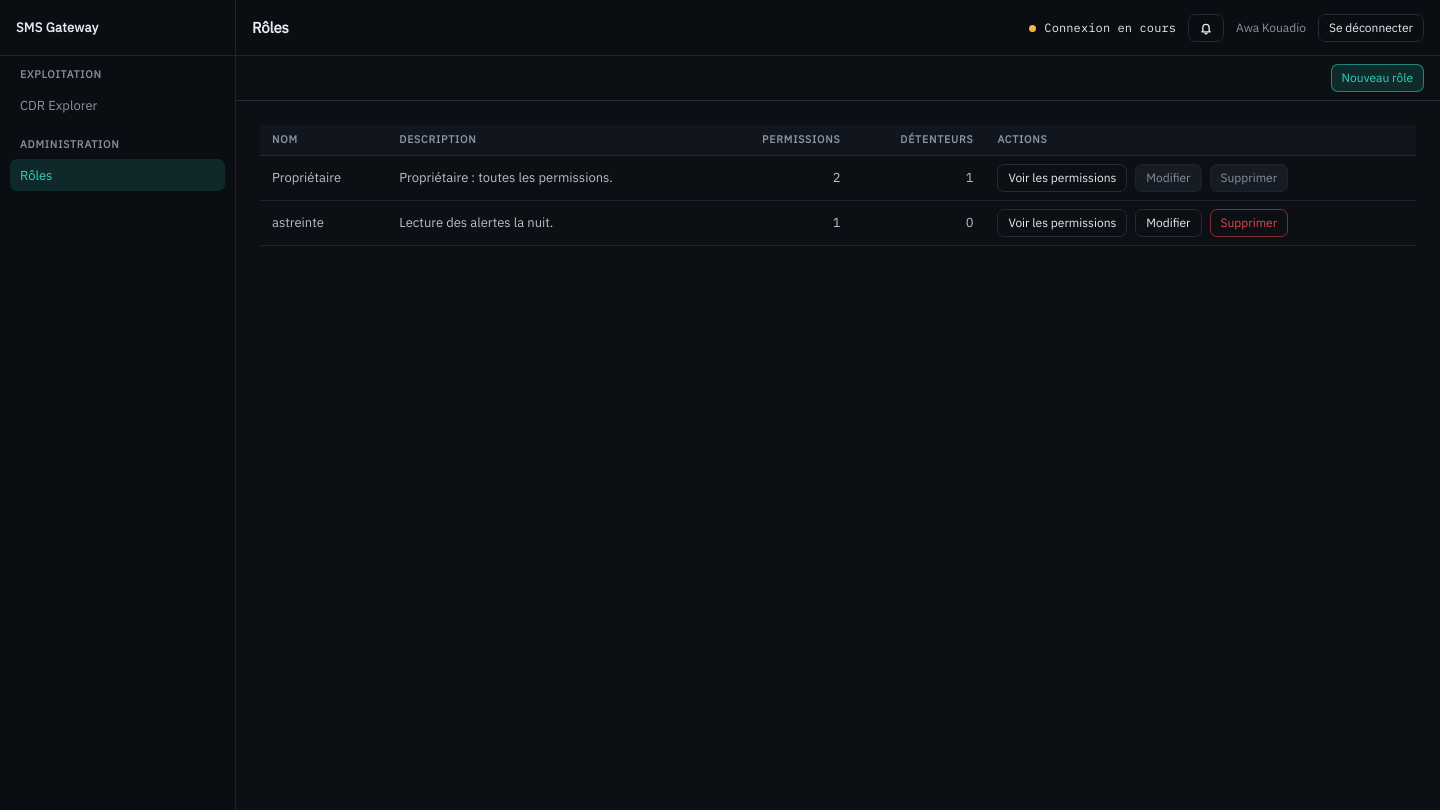
the roles screen › deletes a custom role nobody holds, after confirmation
Click the button "Supprimer" in the row of "astreinte": (1249, 223) [1210,209,1288,237]
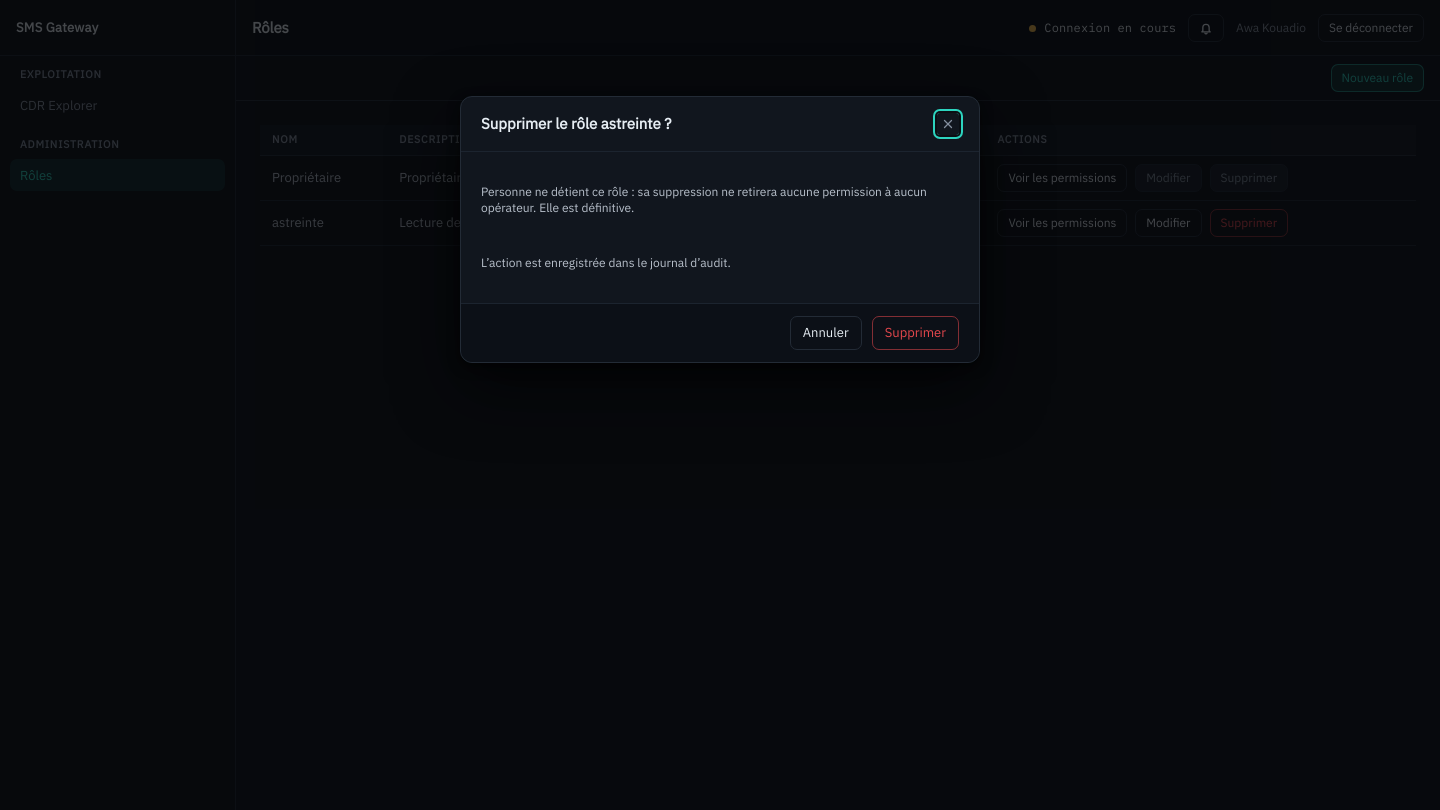
Click the button "Supprimer": (915, 333) [872,316,959,350]
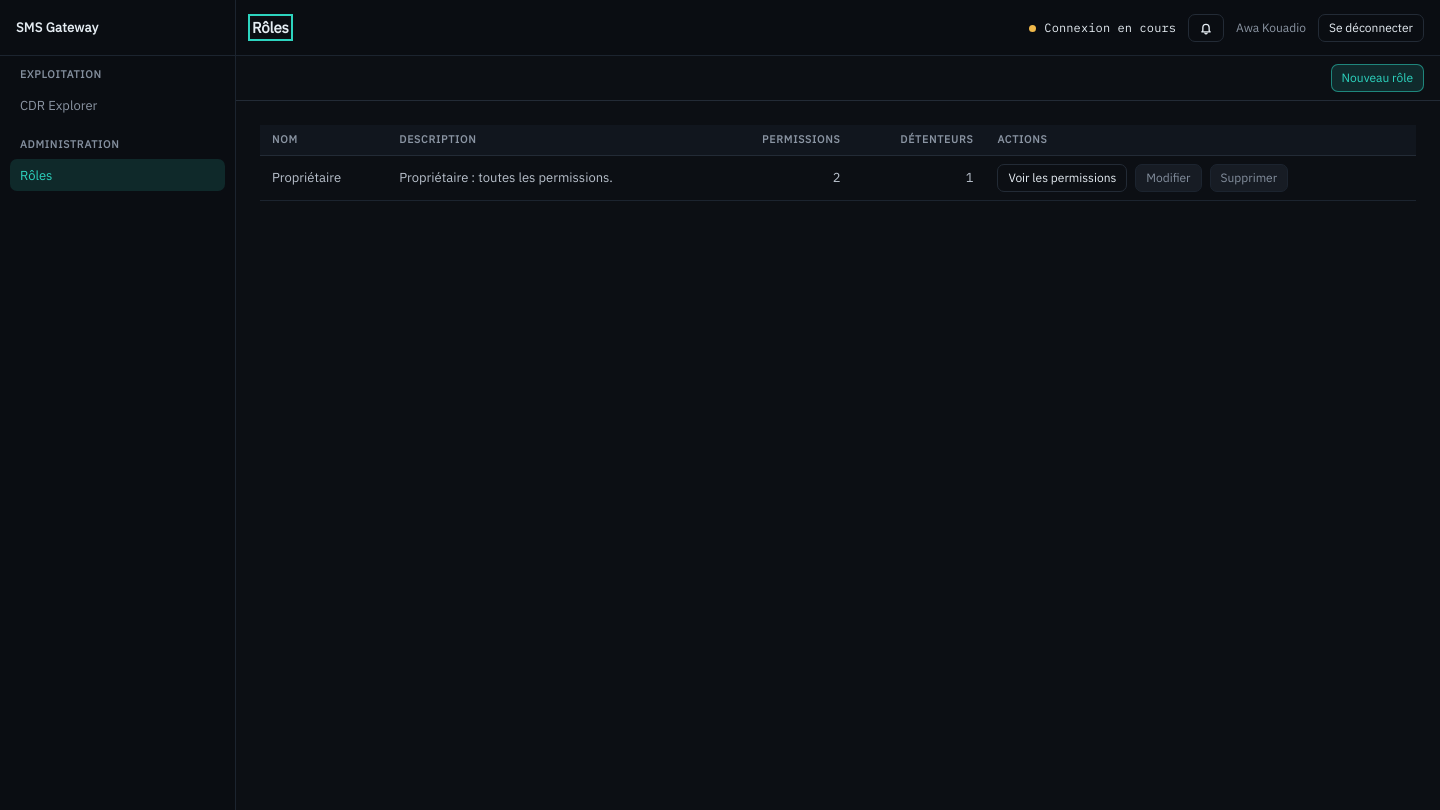
Expected: the cell "astreinte" is gone
